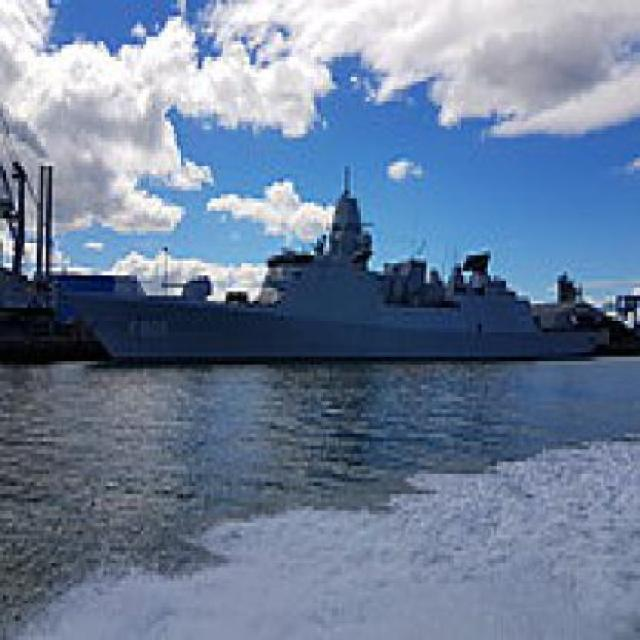warship2: (50, 167, 607, 381)
